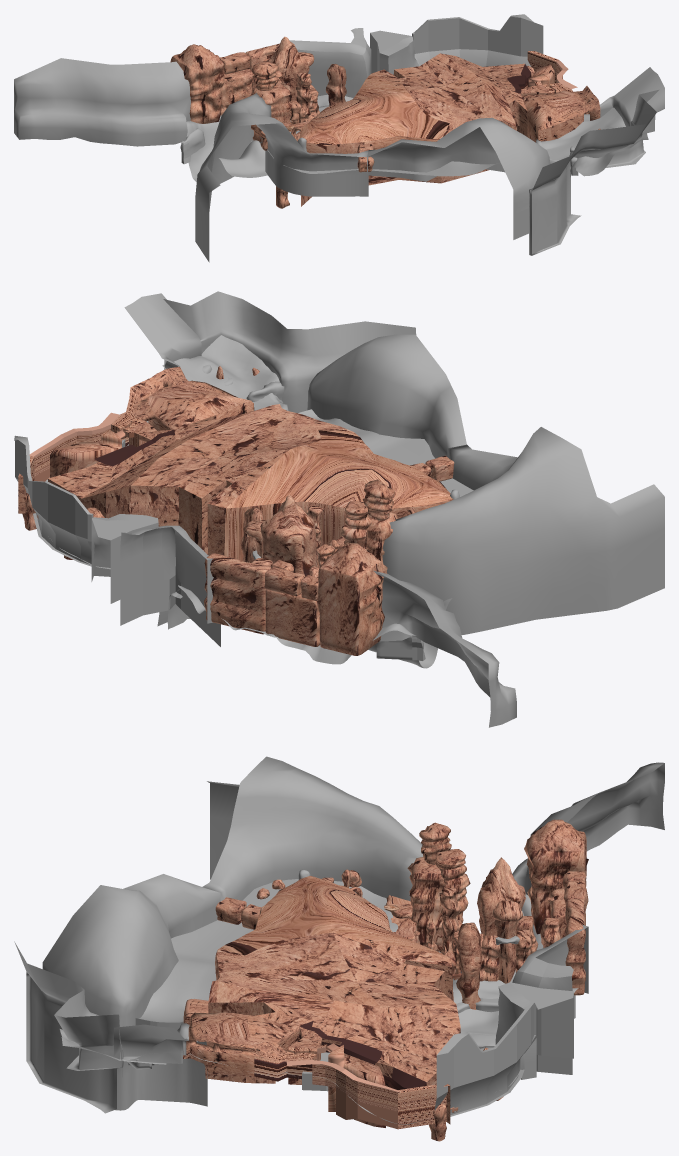
File: CanyonV10.fbx
The picture shows the model from 3 angles, top to bottom: view 1: azimuth 30°, elevation 25°; view 2: azimuth 150°, elevation 25°; view 3: azimuth 270°, elevation 25°; orthographic projection. The views are drawn at different scales.
Parts seen in each view (by area): view 1: polySurface15, pCube46, polySurface10, polySurface9, pCube76, pCube102, polySurface13, pCube25, rockwall_a00, pCube125, polySurface5, pCube64 (+13 smaller); view 2: polySurface10, polySurface15, polySurface9, pCube76, pCube25, rockwall_a00, pCube46, polySurface13, pCube102, rockwall_a03, pCube125, rockwall_b09 (+13 smaller); view 3: polySurface15, polySurface10, polySurface9, pCube76, polySurface13, pCube102, pCube123, polySurface16, pCube46, pCube47, pCube125, rockwall_a00 (+15 smaller).
Boxes of the visible parts, x1,y1,x2,y2 form: polySurface15: (299, 53, 554, 206); pCube46: (14, 58, 190, 146); polySurface10: (195, 93, 368, 262); polySurface9: (367, 117, 550, 239); pCube76: (529, 89, 659, 255); pCube102: (412, 14, 543, 66); polySurface13: (521, 86, 600, 142); pCube25: (289, 28, 371, 97); rockwall_a00: (170, 44, 224, 123); pCube125: (536, 107, 648, 176); polySurface5: (182, 94, 353, 181); pCube64: (599, 67, 664, 126); polySurface10: (382, 427, 664, 634); polySurface15: (48, 404, 453, 561); polySurface9: (307, 334, 466, 458); pCube76: (163, 291, 416, 413); pCube25: (120, 525, 220, 646); rockwall_a00: (316, 543, 387, 655); pCube46: (373, 570, 516, 727); polySurface13: (120, 366, 254, 430); pCube102: (14, 435, 94, 566); rockwall_a03: (204, 553, 271, 634); pCube125: (162, 335, 288, 410); rockwall_b09: (260, 495, 316, 576); polySurface15: (208, 876, 460, 1089); polySurface10: (202, 756, 422, 901); polySurface9: (42, 874, 220, 1026); pCube76: (14, 941, 123, 1113); polySurface13: (183, 1012, 299, 1082); pCube102: (434, 1002, 537, 1116); pCube123: (135, 879, 397, 1030); polySurface16: (286, 1051, 450, 1129); pCube46: (512, 762, 664, 895); pCube47: (495, 982, 573, 1079); pCube125: (59, 1023, 207, 1110); rockwall_a00: (524, 819, 588, 934).
Bounding box in the file's own units: 58783 × 15731 × 51655.
